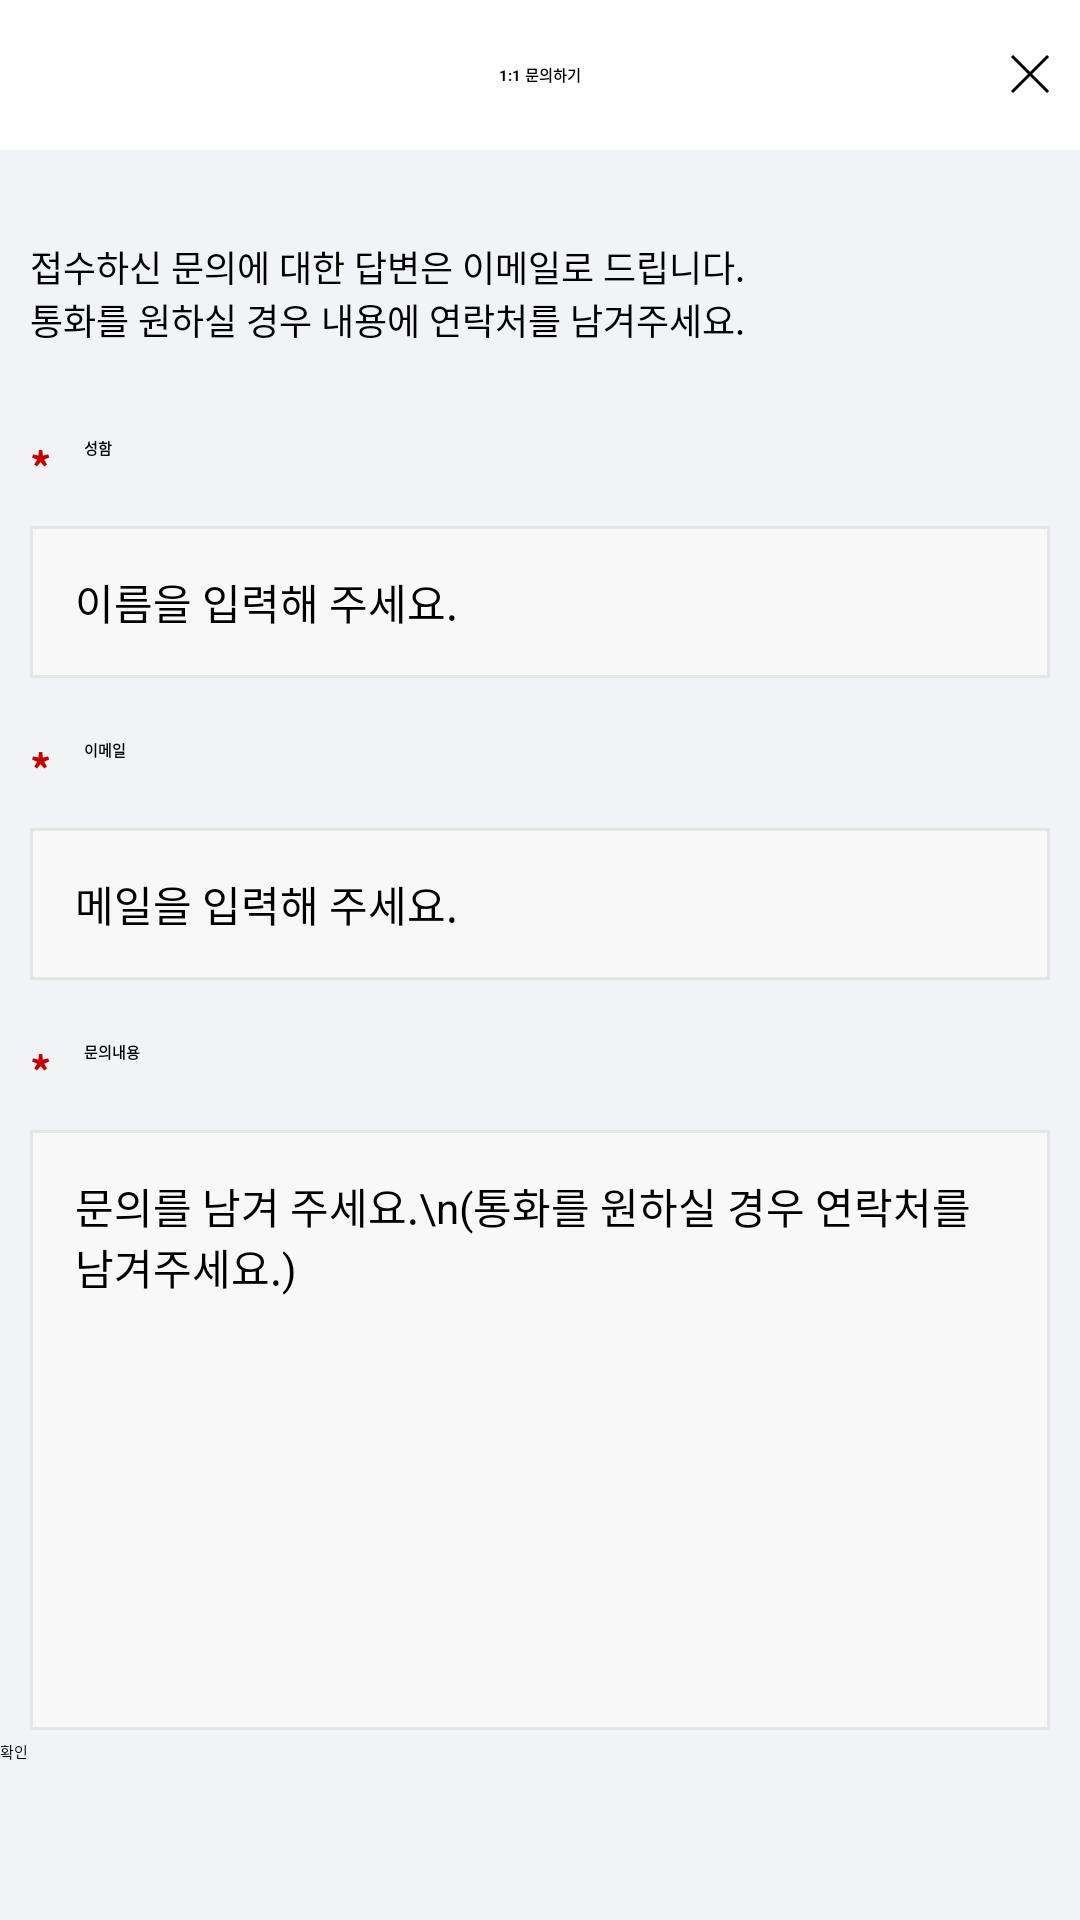

Point at icon controls on the screen. Image size 1080px x 1920px, points as (x,y).
spot close: (1030,74)
